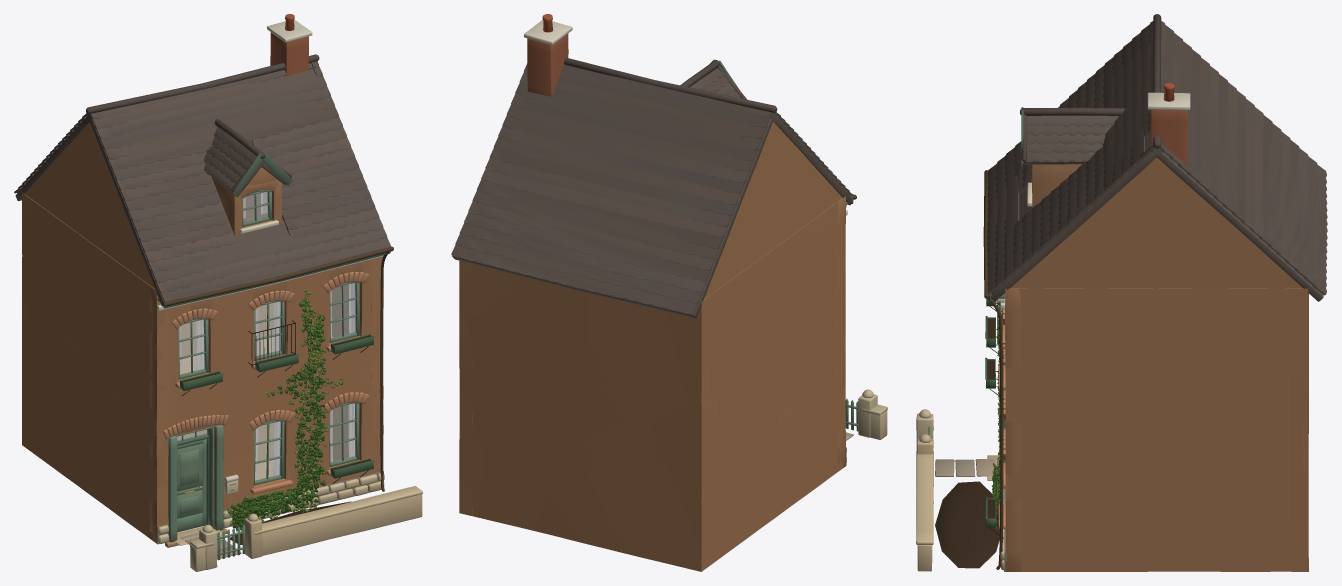
The model's file is Opposite_Opposite1_2.glb.
3 renders of one model, left to right at view 1: azimuth 30°, elevation 25°; view 2: azimuth 150°, elevation 25°; view 3: azimuth 270°, elevation 25°, orthographic. The views are drawn at different scales.
Parts seen in each view (by area): view 1: Sammel Ziegel, Sammel Stein, Sammel Lack, Sammel Putz, Glas, Sammel Pflanze, Sammel Putz innen, Sammel Metall, Vorhang Leinen; view 2: Sammel Ziegel, Sammel Stein, Sammel Putz; view 3: Sammel Ziegel, Sammel Stein, Sammel Putz, Sammel Metall, Sammel Lack, Sammel Pflanze.
Part boxes in pixels (x1,y1,x2,y2): Sammel Ziegel: [22, 32, 383, 543]; Sammel Stein: [14, 54, 422, 571]; Sammel Lack: [157, 152, 390, 560]; Sammel Putz: [157, 14, 383, 547]; Glas: [177, 192, 355, 480]; Sammel Pflanze: [227, 289, 343, 531]; Sammel Putz innen: [177, 284, 348, 532]; Sammel Metall: [163, 246, 393, 494]; Vorhang Leinen: [179, 192, 355, 480]; Sammel Ziegel: [459, 33, 845, 571]; Sammel Stein: [451, 58, 887, 461]; Sammel Putz: [524, 14, 847, 465]; Sammel Ziegel: [1005, 109, 1308, 571]; Sammel Stein: [916, 14, 1327, 571]; Sammel Putz: [935, 83, 1190, 571]; Sammel Metall: [983, 170, 1005, 569]; Sammel Lack: [928, 107, 1023, 527]; Sammel Pflanze: [992, 302, 1001, 529].
Size of the model in its own units: 6.14 by 10.85 by 8.43.
